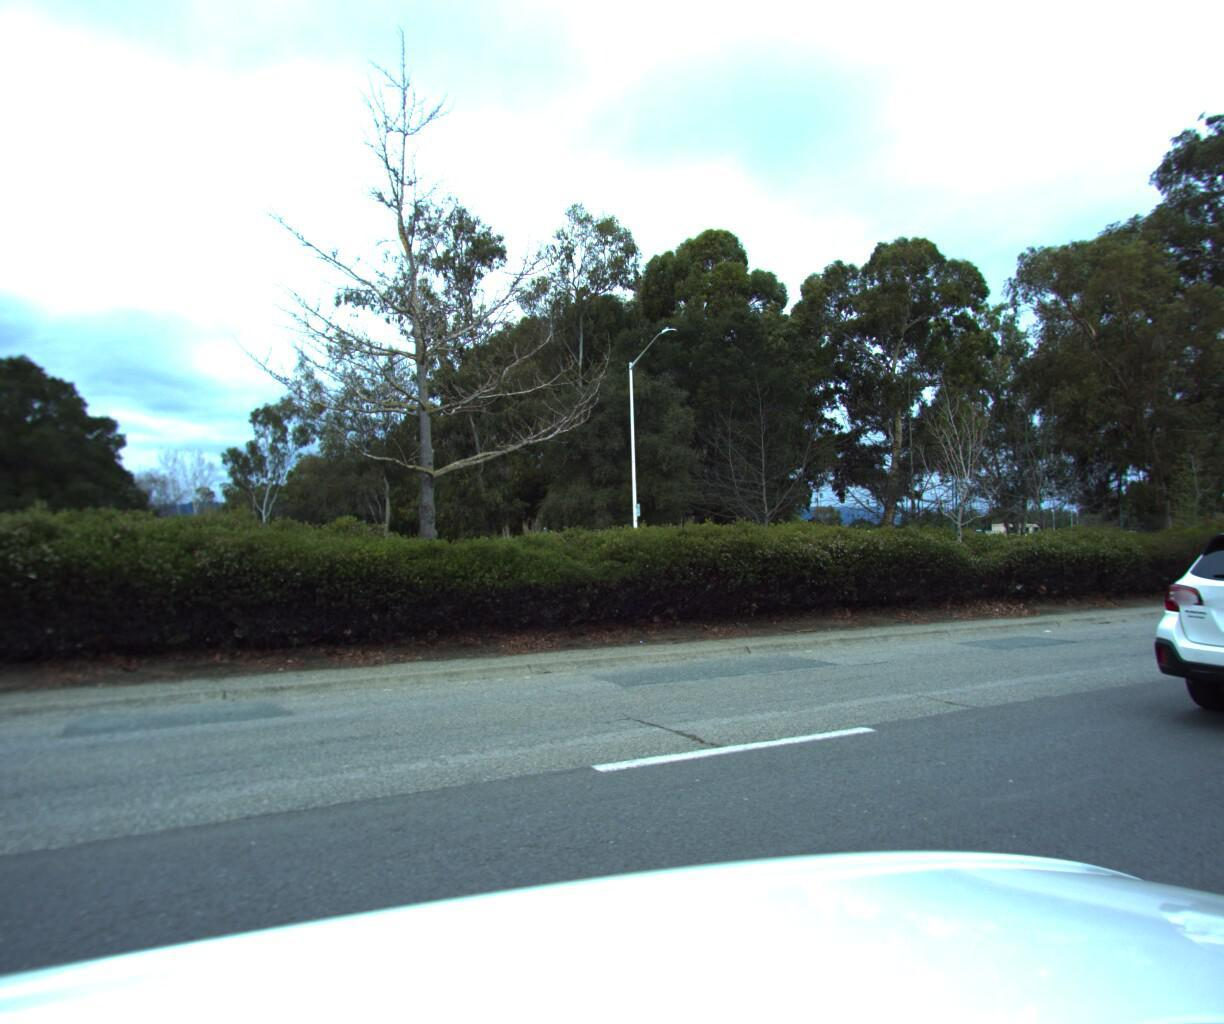car: (1103, 487, 1224, 767)
